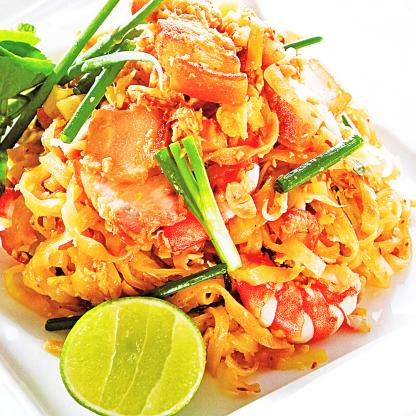Pad Thai: (0, 14, 391, 404)
